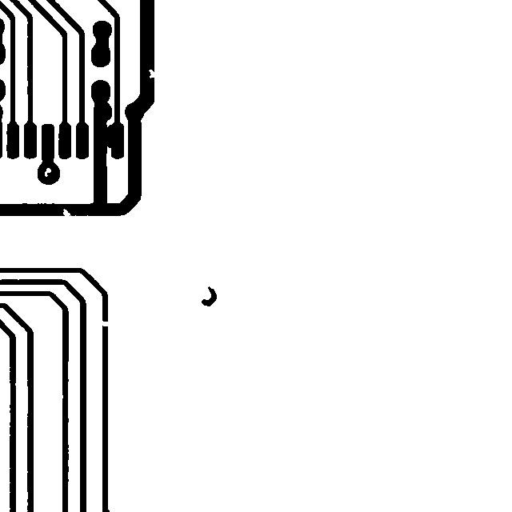copper: (194, 278, 224, 314)
mousebite: (55, 201, 78, 226), (141, 62, 164, 86)
open: (91, 311, 118, 334)
pin-hole: (37, 160, 58, 184)
short: (95, 117, 122, 155)
